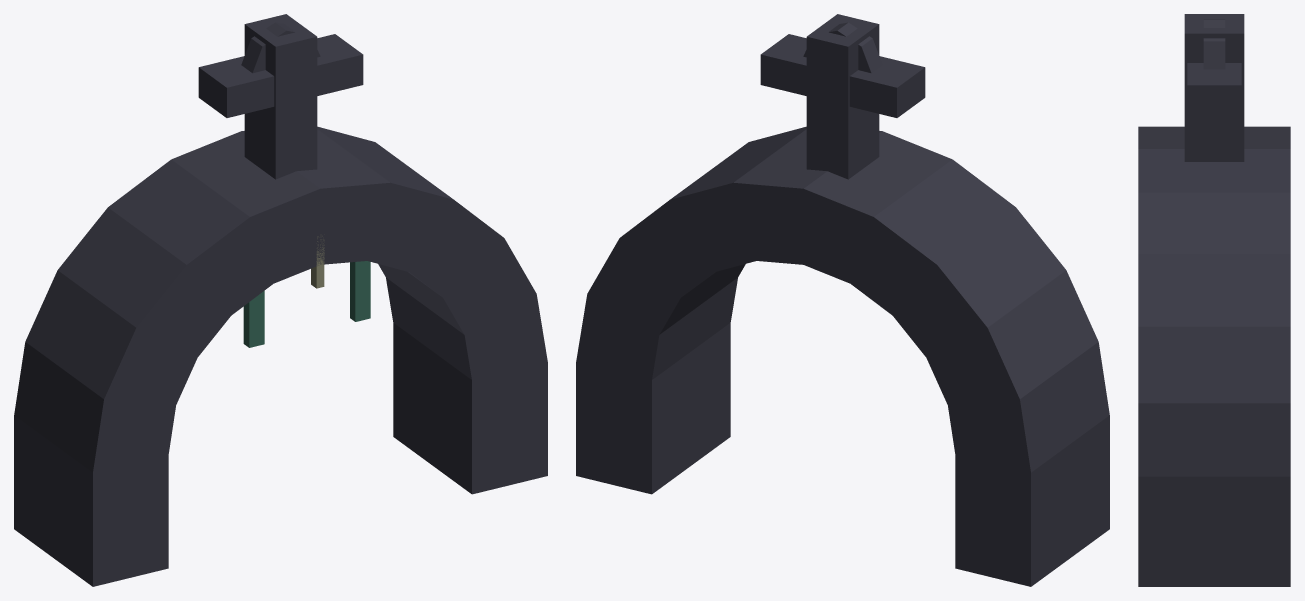
Rendered from env_r14_giant_anchor_arch.glb.
The picture shows the model from 3 angles, left to right: view 1: azimuth 30°, elevation 25°; view 2: azimuth 150°, elevation 25°; view 3: azimuth 270°, elevation 25°; orthographic projection. The views are drawn at different scales.
Visible parts, largest first — view 1: env_r14_giant_anchor_arch; view 2: env_r14_giant_anchor_arch; view 3: env_r14_giant_anchor_arch.
Part boxes in pixels (bbox=[...]): env_r14_giant_anchor_arch: bbox=[14, 14, 547, 586]; env_r14_giant_anchor_arch: bbox=[576, 14, 1109, 586]; env_r14_giant_anchor_arch: bbox=[1138, 14, 1290, 586].
Size of the model in its own units: 6 by 6 by 1.8.
1 material, 1 textured.
